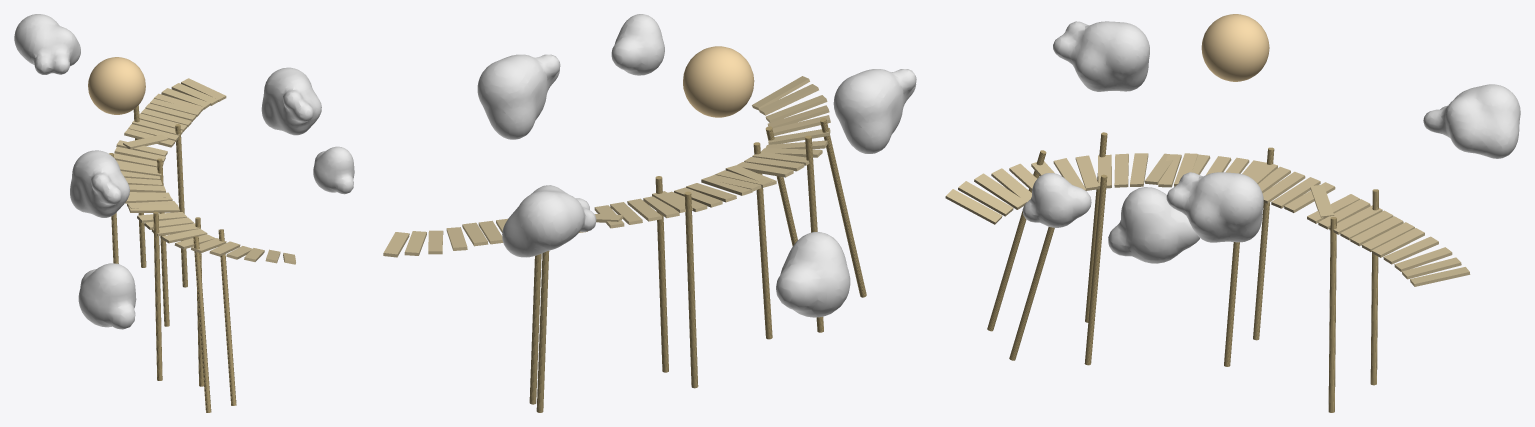
Rendered from crooked_road.glb.
3 views of the same model, side by side, from view 1: azimuth 30°, elevation 25°; view 2: azimuth 150°, elevation 25°; view 3: azimuth 270°, elevation 25° (orthographic). The views are drawn at different scales.
Parts seen in each view (by area): view 1: box.101, Mball.023_Mesh.004, Mball.023_Mesh.001, Mball.023_Mesh.002, Mball.023_Mesh.003, sphere.281, Mball.023_Mesh; view 2: box.101, Mball.023_Mesh.001, Mball.023_Mesh.002, Mball.023_Mesh.004, Mball.023_Mesh.003, sphere.281, Mball.023_Mesh; view 3: box.101, Mball.023_Mesh.001, Mball.023_Mesh.002, Mball.023_Mesh.003, Mball.023_Mesh.004, sphere.281, Mball.023_Mesh.
Boxes of the visible parts, x1,y1,x2,y2 form: box.101: (109, 78, 295, 412); Mball.023_Mesh.004: (78, 263, 136, 329); Mball.023_Mesh.001: (261, 67, 321, 135); Mball.023_Mesh.002: (70, 150, 129, 217); Mball.023_Mesh.003: (14, 14, 80, 74); sphere.281: (88, 57, 145, 114); Mball.023_Mesh: (313, 146, 354, 194); box.101: (383, 76, 866, 412); Mball.023_Mesh.001: (477, 54, 560, 139); Mball.023_Mesh.002: (833, 69, 916, 153); Mball.023_Mesh.004: (776, 232, 850, 317); Mball.023_Mesh.003: (502, 185, 596, 257); sphere.281: (683, 46, 754, 117); Mball.023_Mesh: (611, 14, 664, 75); box.101: (945, 132, 1470, 412); Mball.023_Mesh.001: (1166, 172, 1263, 242); Mball.023_Mesh.002: (1053, 21, 1149, 91); Mball.023_Mesh.003: (1423, 84, 1520, 158); Mball.023_Mesh.004: (1108, 187, 1199, 263); sphere.281: (1201, 14, 1269, 81); Mball.023_Mesh: (1022, 173, 1091, 227).
Bounding box in the file's own units: 18.84 × 18.09 × 28.2.
